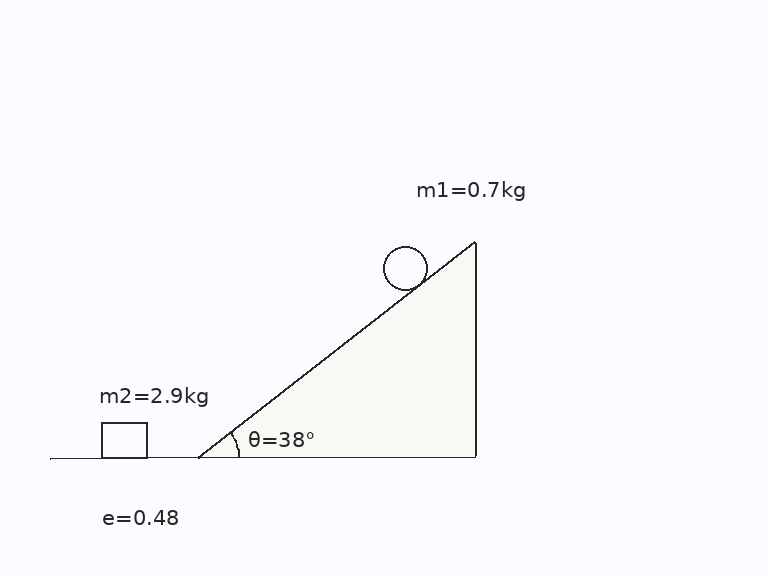ball: (381, 244, 429, 292)
block: (99, 421, 149, 459)
ramp: (197, 240, 477, 459)
